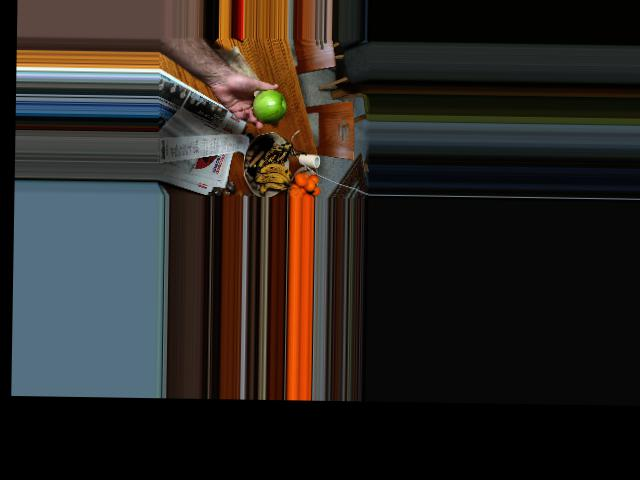apple: (250, 89, 288, 124)
